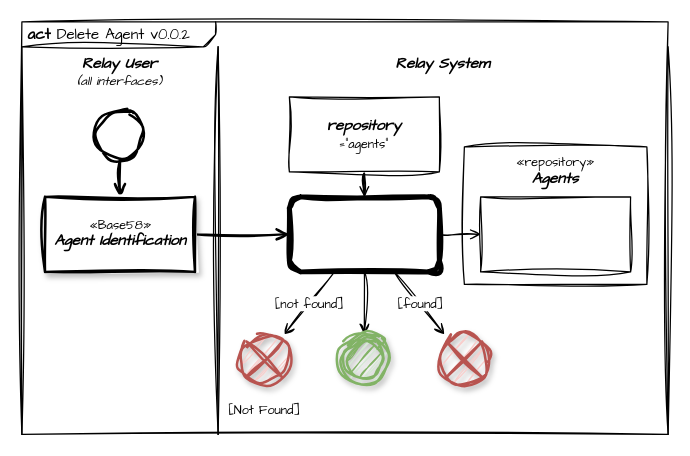
Image size: 690x456. Some labels were removed from this diagram. Here are the shapes that lost their labels. From the top down, the centre of each, then its label:
At point (363, 234): "«Delete Data» Remove Agent from repository".
At point (555, 234): "« Base58, RSA 2048 » Agent".
At point (465, 361): "[Not Allowed]".
